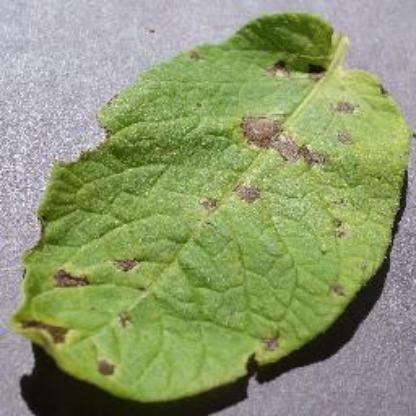Early-Blight: (10, 2, 416, 416)
